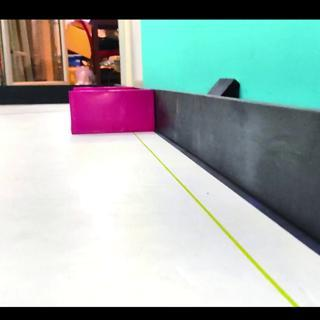xparking: (70, 91, 150, 133)
